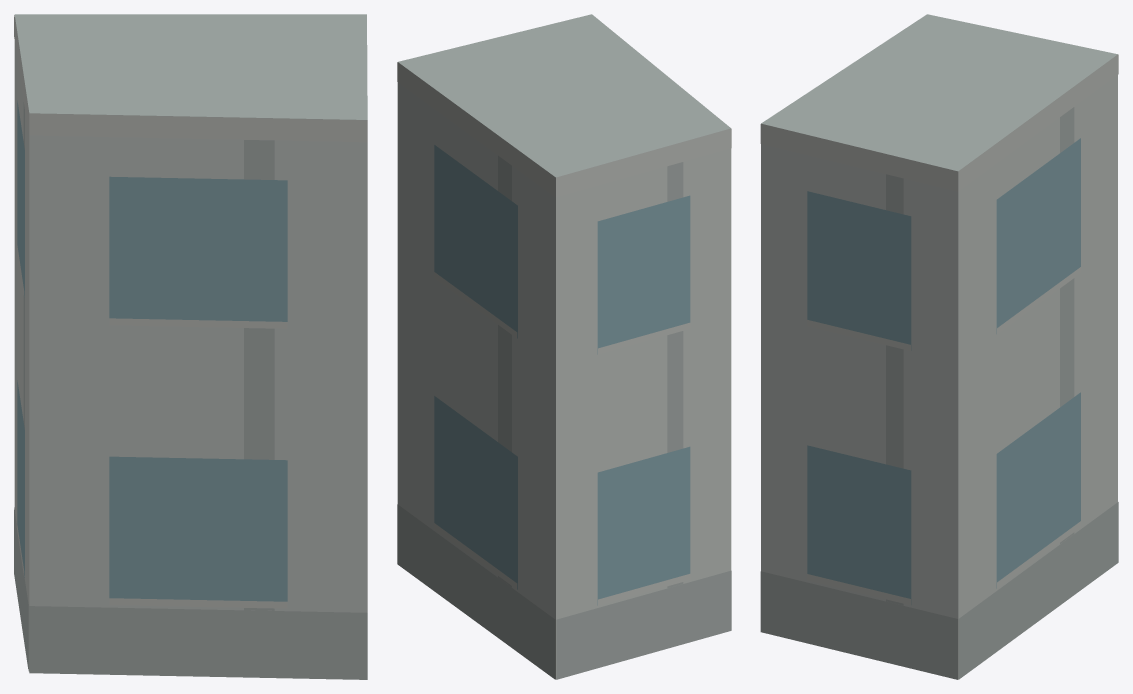
File: survey-upis-32578491.glb
3 views of the same model, side by side, from view 1: azimuth 30°, elevation 25°; view 2: azimuth 150°, elevation 25°; view 3: azimuth 270°, elevation 25° (orthographic). The views are drawn at different scales.
Parts seen in each view (by area): view 1: survey-upis-32578491.tmp; view 2: survey-upis-32578491.tmp; view 3: survey-upis-32578491.tmp.
Part boxes in pixels (box(x1,y1,x2,y2)): survey-upis-32578491.tmp: box(14, 14, 367, 679); survey-upis-32578491.tmp: box(397, 14, 731, 679); survey-upis-32578491.tmp: box(760, 14, 1118, 679).
Bounding box in the file's own units: 4.06 × 6.1 × 3.89.
